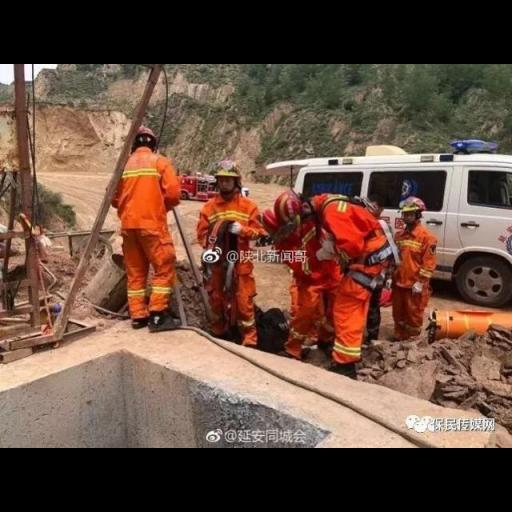Person: (273, 176, 401, 370), (108, 106, 180, 348), (199, 150, 264, 350), (395, 165, 445, 339)
boots: (145, 304, 185, 330), (132, 312, 148, 330)
helmet: (268, 184, 301, 226), (211, 156, 245, 180), (394, 190, 426, 214), (131, 120, 162, 142)
